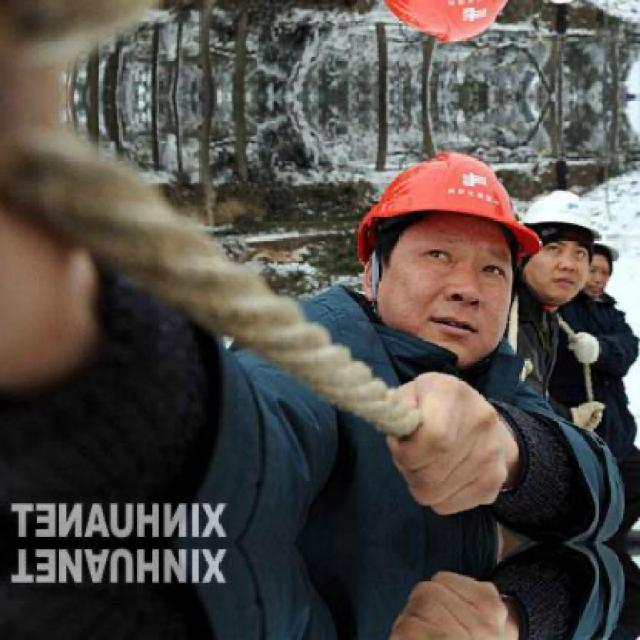2: (88, 152, 530, 534), (86, 550, 531, 638), (494, 183, 597, 519), (557, 234, 632, 537), (494, 564, 598, 638), (557, 546, 634, 639)
helmet: (342, 134, 543, 361), (518, 177, 614, 311), (342, 0, 545, 58), (575, 226, 628, 297)
